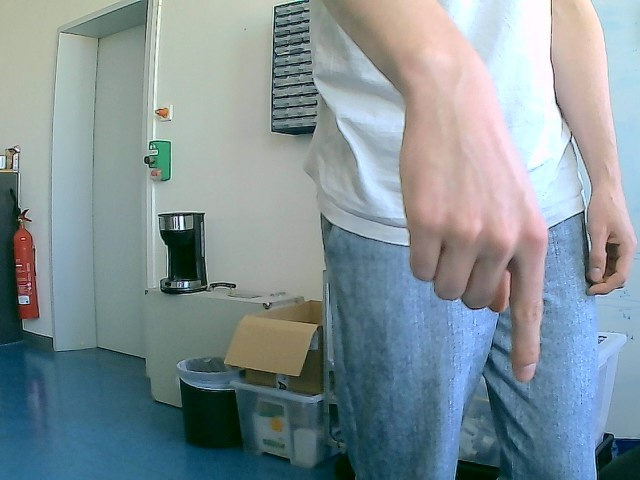down: (397, 98, 550, 384)
no_gesture: (583, 186, 638, 299)
